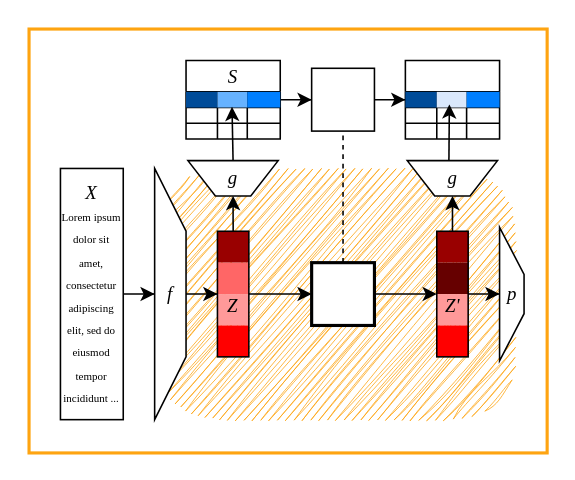
The diagram is 575 pixels wide and 480 high, and some of its shapes have lost their labels. Here are the shapes that lost their labels. From the top down, the centre of each, then its label:
At point (342, 99): "h S".
At point (452, 99): "S'".
At point (342, 293): "h Z".
